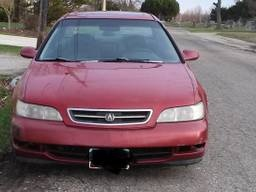acura: (6, 10, 226, 182)
